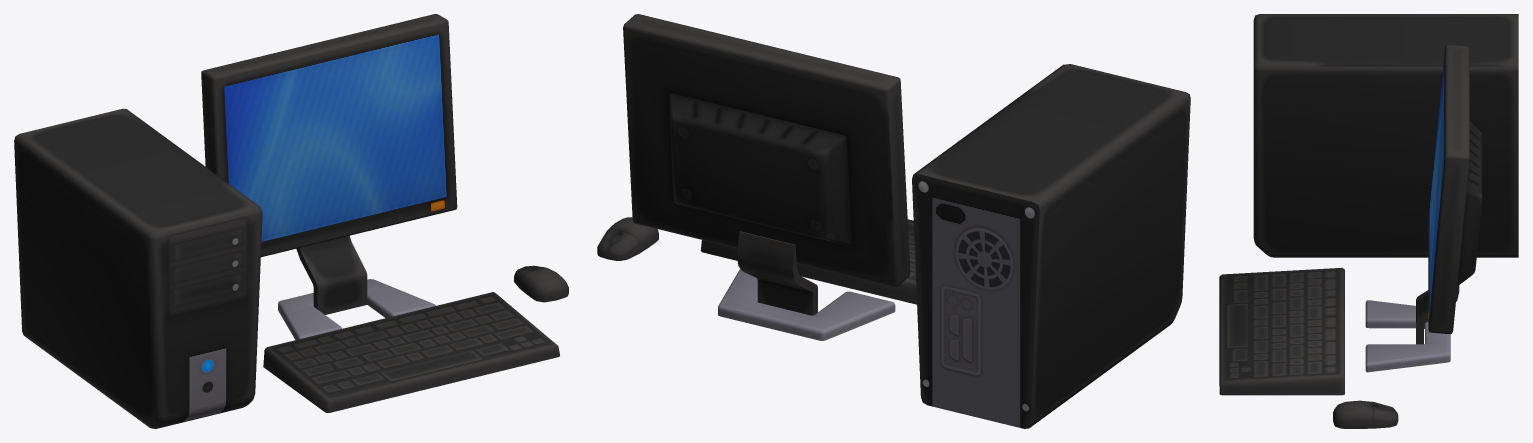
File: OfficeComputer01_1.FBX
The picture shows the model from 3 angles, left to right: view 1: azimuth 30°, elevation 25°; view 2: azimuth 150°, elevation 25°; view 3: azimuth 270°, elevation 25°; orthographic projection. The views are drawn at different scales.
Parts seen in each view (by area): view 1: OfficeComputer01_1; view 2: OfficeComputer01_1; view 3: OfficeComputer01_1.
Part boxes in pixels (x1=…): OfficeComputer01_1: x1=14, y1=14, x2=568, y2=428; OfficeComputer01_1: x1=597, y1=14, x2=1190, y2=428; OfficeComputer01_1: x1=1219, y1=14, x2=1518, y2=428.
Size of what is drawn, in the model's own units: 1.17 by 0.6001 by 0.6716.
